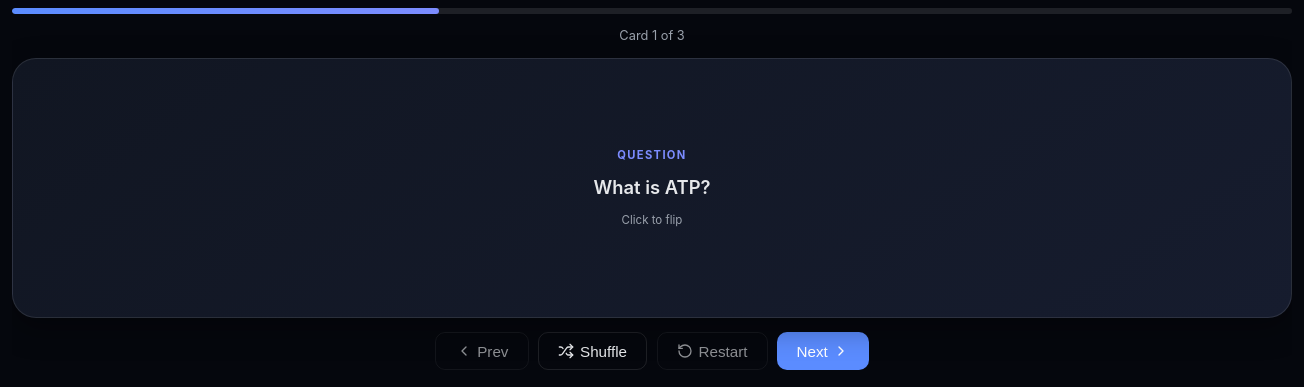
it: FlashcardDeck › moves with Next/Prev, shows each card unflipped, and disables the ends
Expected: the button "Prev" is disabled, [436,332,529,370]
Click the button "Question": [652, 188] box [12,58,1292,318]
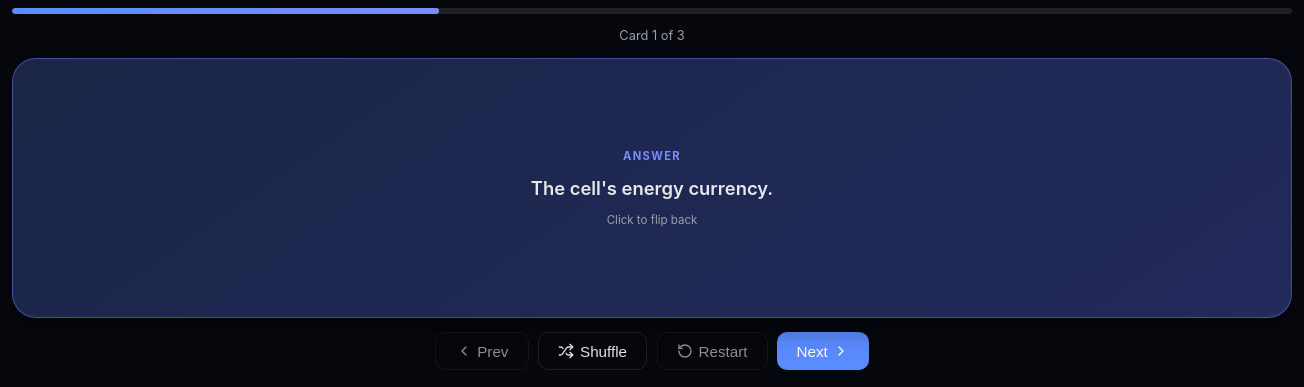
Click the button "Next": [823, 351] box [777,332,868,370]
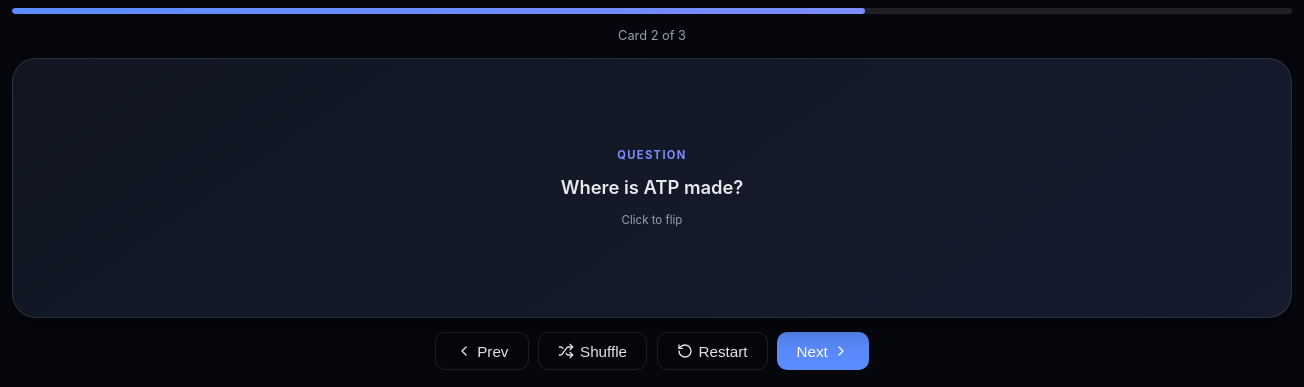
Expected: the text "Card 2 of 3" is shown, [618,28,686,43]
Expected: the text "Where is ATP made?" is shown, [561,174,743,201]
Click the button "Next": [823, 351] box [777,332,868,370]
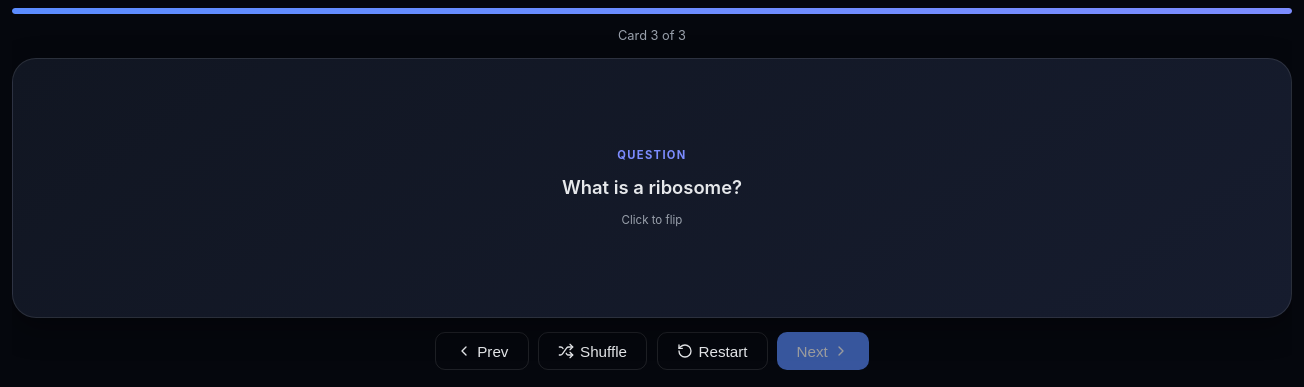
Expected: the text "Card 3 of 3" is shown, [618,28,686,43]
Expected: the button "Next" is disabled, [777,332,868,370]
Click the button "Prev": [482, 351] box [436,332,529,370]
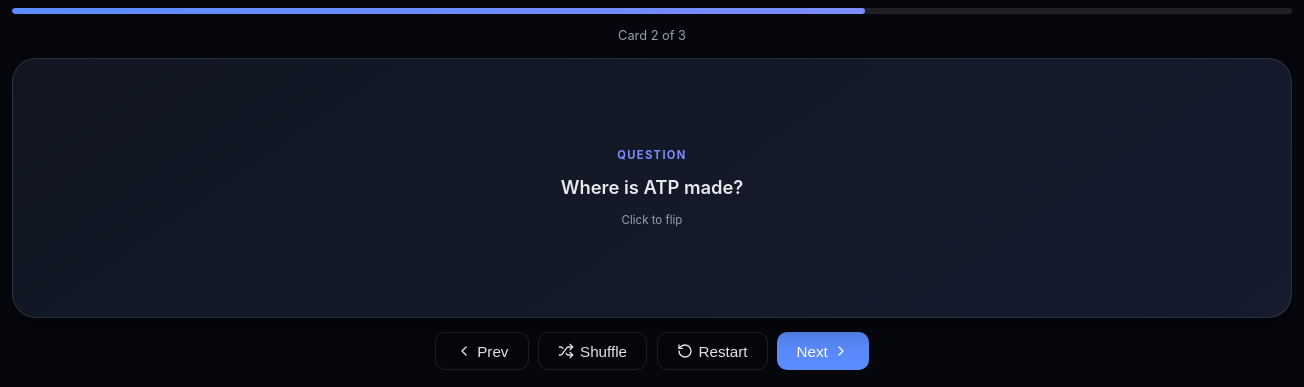
Expected: the text "Card 2 of 3" is shown, [618,28,686,43]
